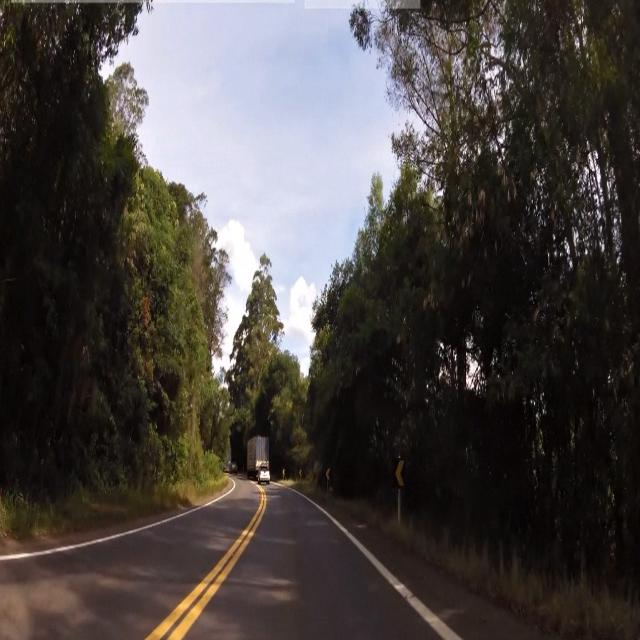Del: (391, 457, 407, 486)
